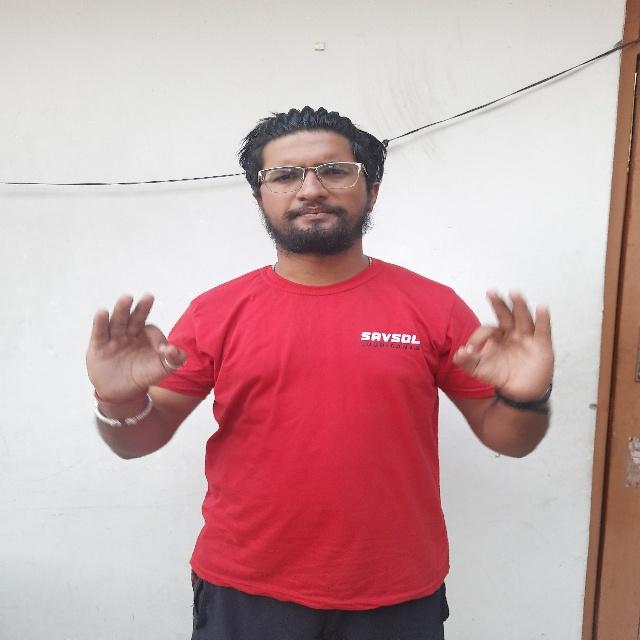Okay: (444, 280, 561, 412), (82, 284, 188, 417)
